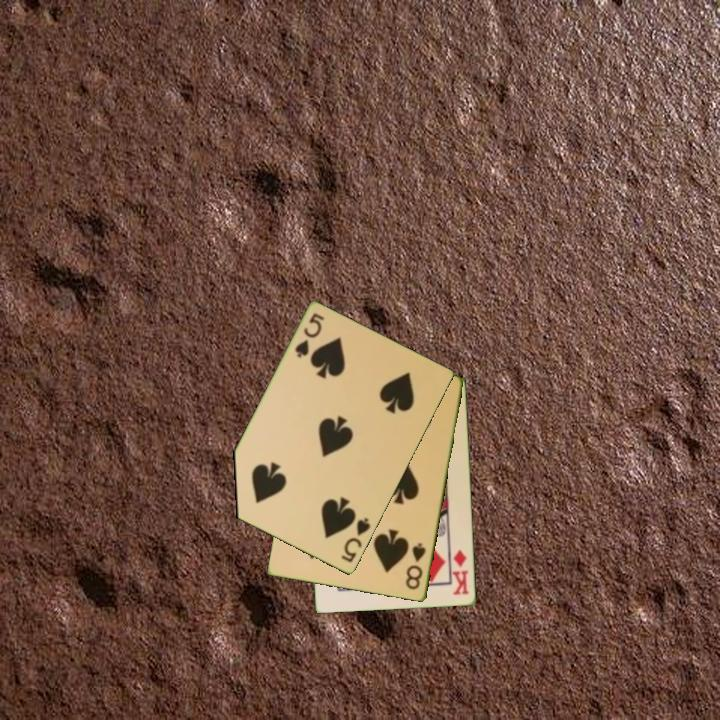5s: (338, 514, 374, 566), (291, 310, 327, 361)
8s: (402, 540, 429, 593)
Kd: (449, 546, 472, 598)
